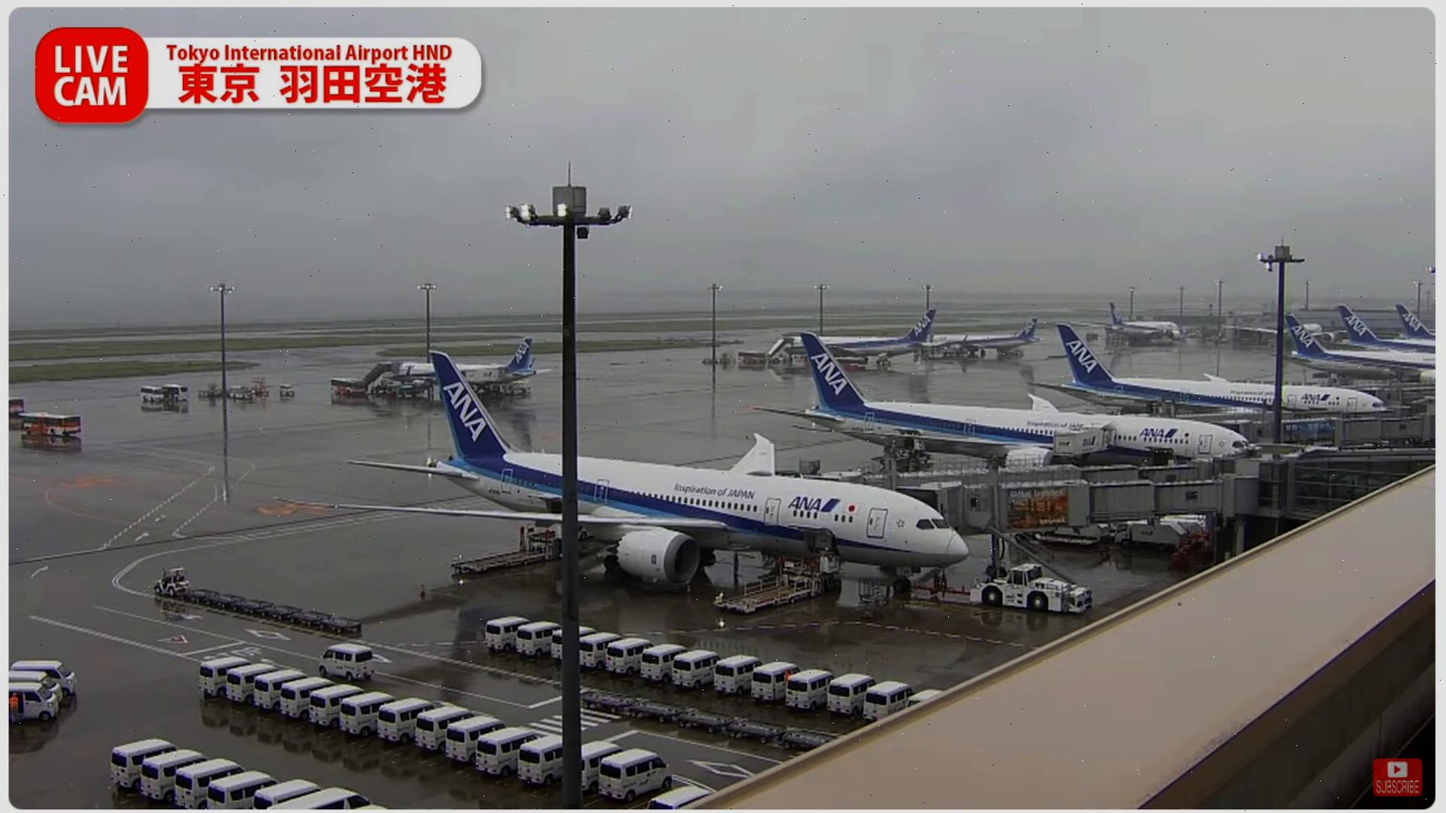APS: (968, 562, 1094, 614)
Aerobridge: (796, 455, 1210, 515), (990, 474, 1182, 535)
Airplane: (270, 351, 970, 592)
JCPL: (718, 550, 842, 613), (452, 525, 561, 575)
Window: (1292, 458, 1433, 516)
